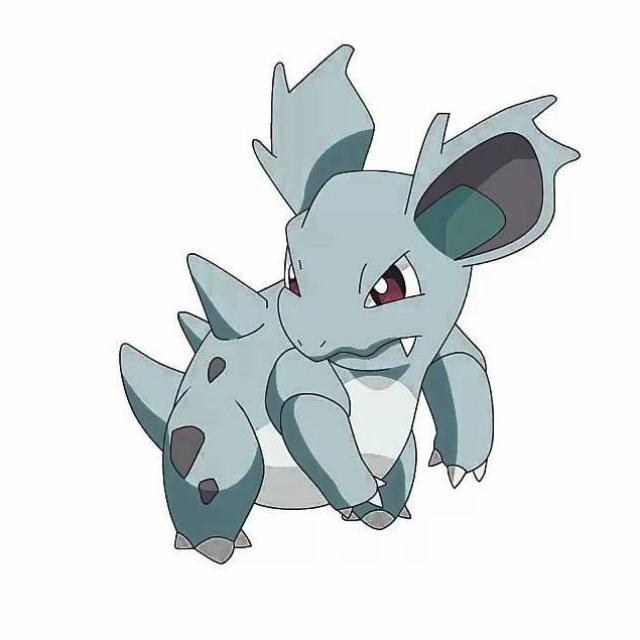Nidorina: (124, 45, 555, 559)
